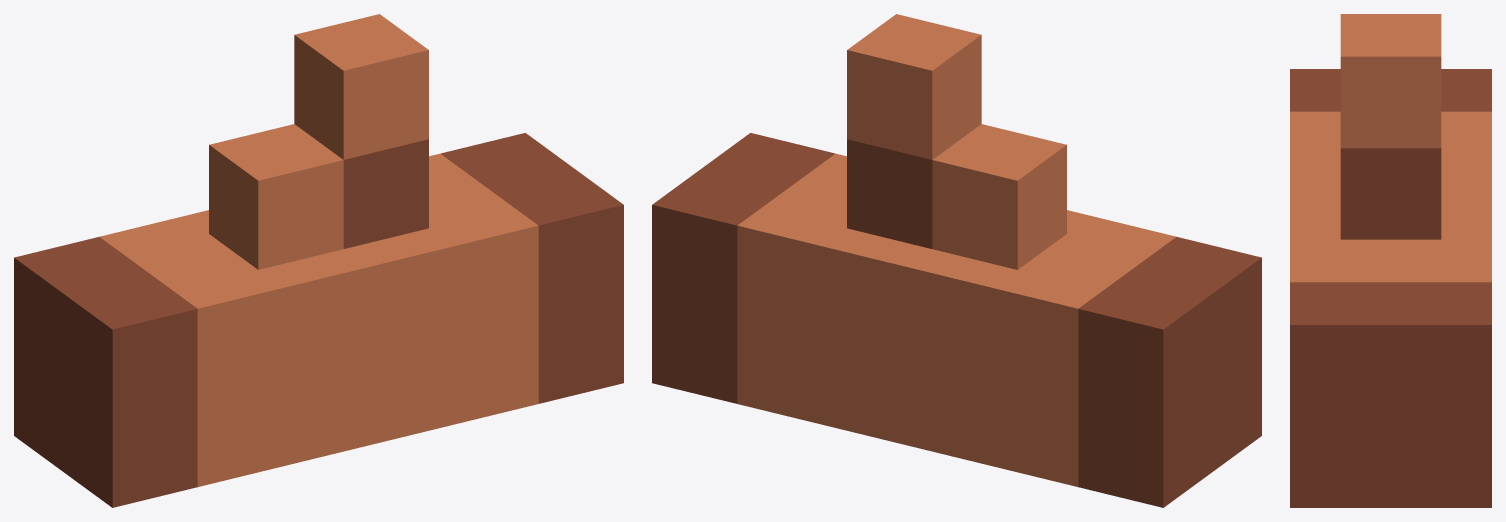
The model's file is wood-stick-01.glb.
3 views of the same model, side by side, from view 1: azimuth 30°, elevation 25°; view 2: azimuth 150°, elevation 25°; view 3: azimuth 270°, elevation 25° (orthographic). The views are drawn at different scales.
Parts seen in each view (by area): view 1: generated(Clone); view 2: generated(Clone); view 3: generated(Clone).
Boxes of the visible parts, box(x1,y1,x2,y2) form: generated(Clone): box(14, 14, 623, 507); generated(Clone): box(652, 14, 1261, 507); generated(Clone): box(1290, 14, 1491, 507).
Bounding box in the file's own units: 6 × 4 × 2.
1 material, 1 textured.
